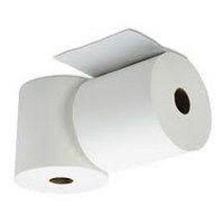tissue: (45, 24, 216, 181), (7, 70, 113, 201)
